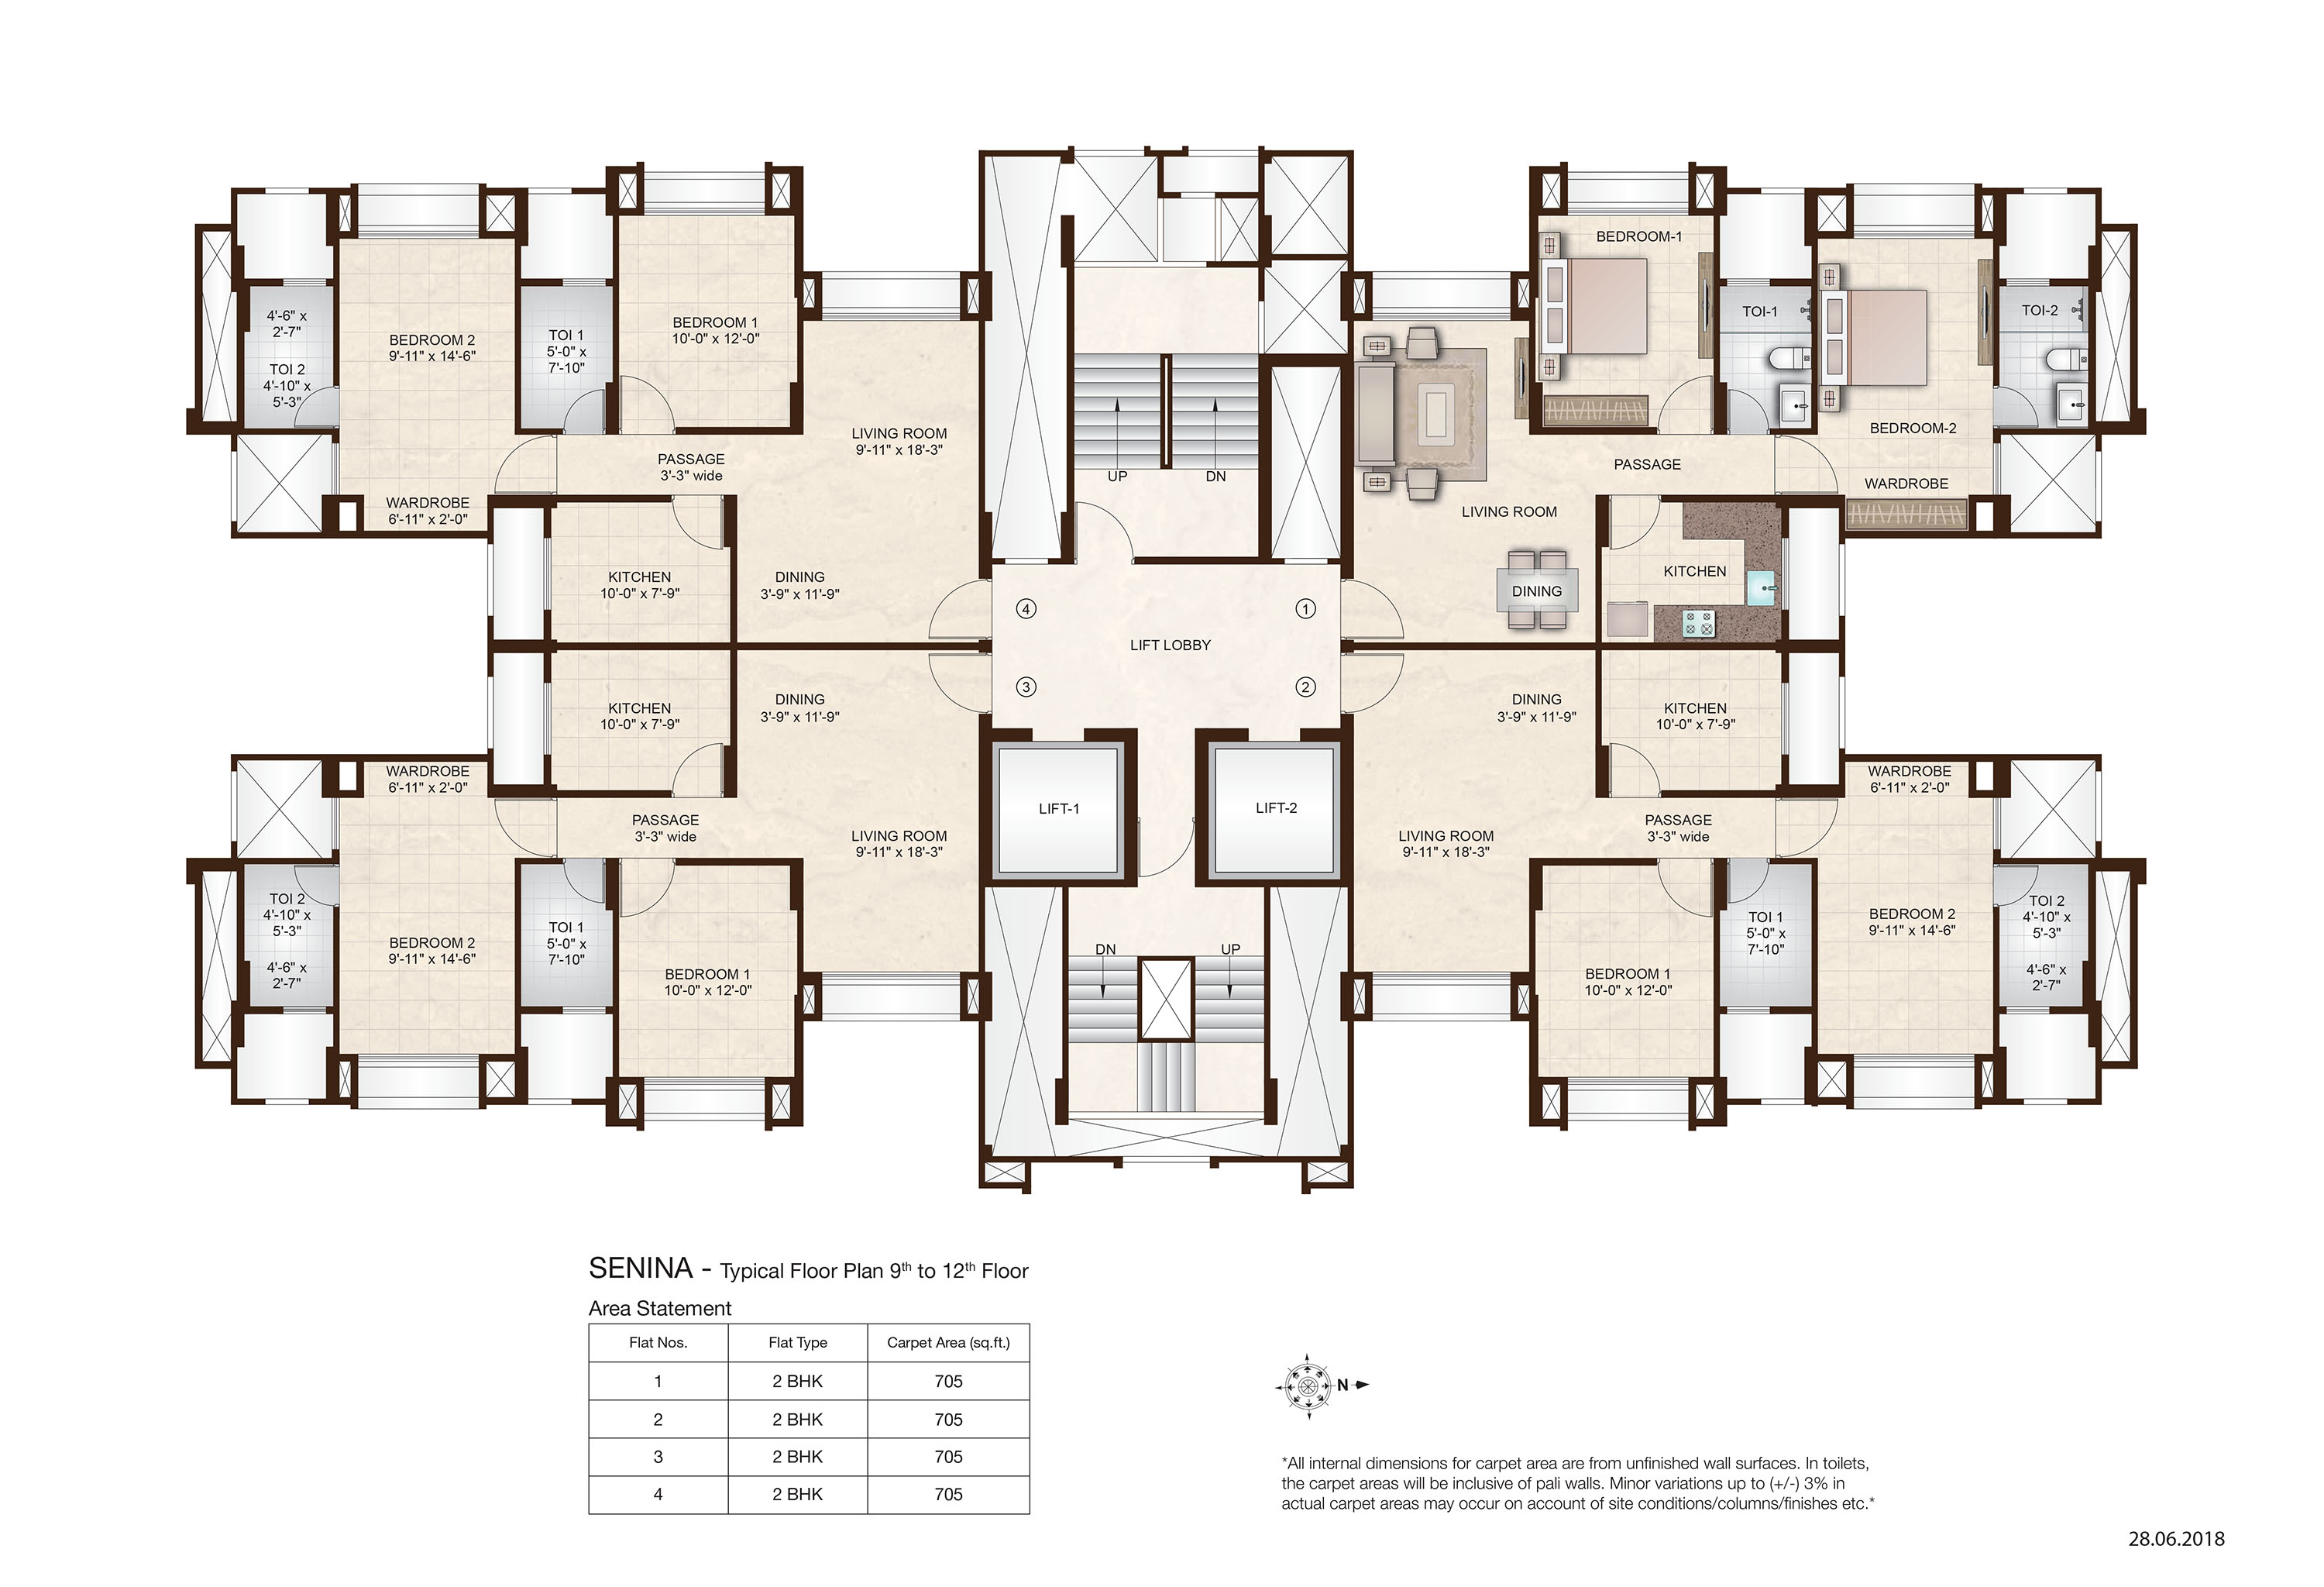window: (1369, 970, 1513, 990), (821, 968, 962, 988), (355, 223, 482, 244), (357, 1052, 482, 1073), (643, 1074, 768, 1096), (821, 306, 962, 323), (1851, 1052, 1976, 1071), (1566, 200, 1690, 219), (1370, 306, 1512, 322), (1565, 1074, 1690, 1092), (1852, 223, 1976, 240), (643, 201, 766, 217), (1778, 534, 1792, 613), (1780, 680, 1792, 758), (542, 680, 555, 756), (542, 535, 553, 613), (1990, 440, 2004, 497), (328, 440, 341, 497), (560, 1004, 607, 1018), (1990, 797, 2003, 850), (1724, 277, 1773, 290), (279, 1004, 328, 1016), (1724, 1006, 1773, 1018), (330, 795, 341, 852), (2004, 277, 2052, 290), (2004, 1004, 2052, 1016), (283, 277, 328, 290), (562, 277, 606, 290)
